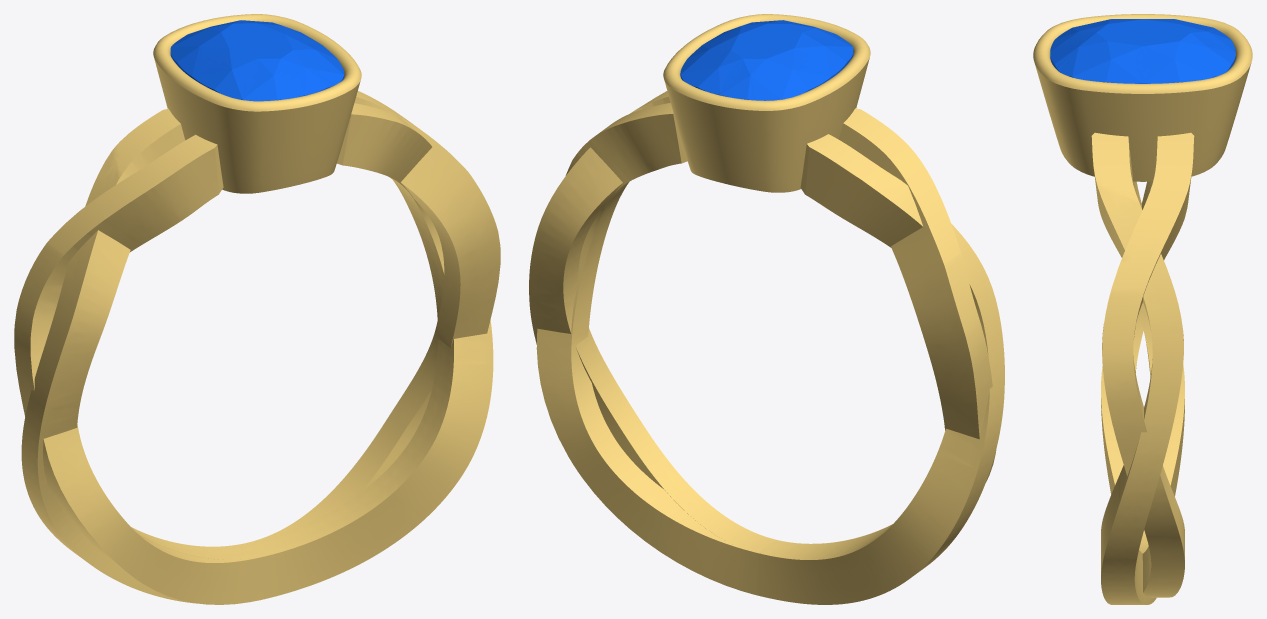
Rendered from bluesapphire-cushion-yellowgold-bezelset-twist-nosidestones.glb.
The picture shows the model from 3 angles, left to right: view 1: azimuth 30°, elevation 25°; view 2: azimuth 150°, elevation 25°; view 3: azimuth 270°, elevation 25°; orthographic projection.
Visible parts, largest first — view 1: metal.002, stone; view 2: metal.002, stone; view 3: metal.002, stone.
Boxes of the visible parts, x1=… form: metal.002: x1=14, y1=14, x2=500, y2=604; stone: x1=170, y1=20, x2=344, y2=101; metal.002: x1=529, y1=14, x2=1004, y2=604; stone: x1=680, y1=20, x2=853, y2=100; metal.002: x1=1033, y1=14, x2=1252, y2=604; stone: x1=1050, y1=19, x2=1235, y2=83.
Size of the model in its own units: 19.97 by 23.14 by 8.45.
